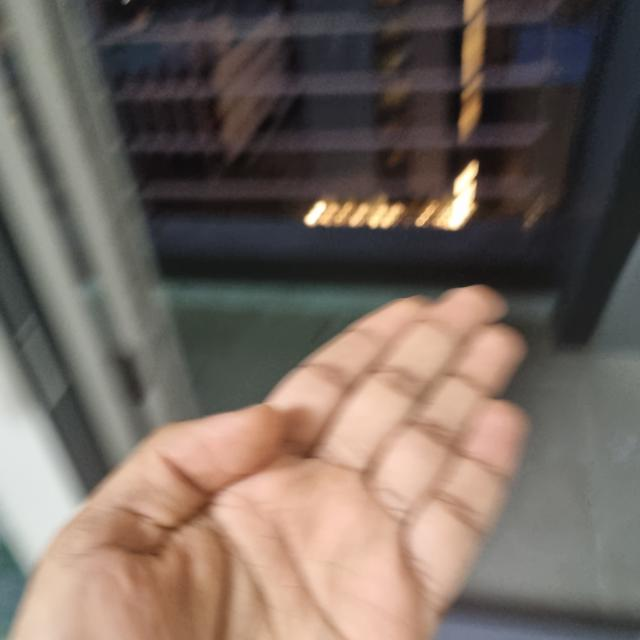Paper: (3, 288, 527, 639)
